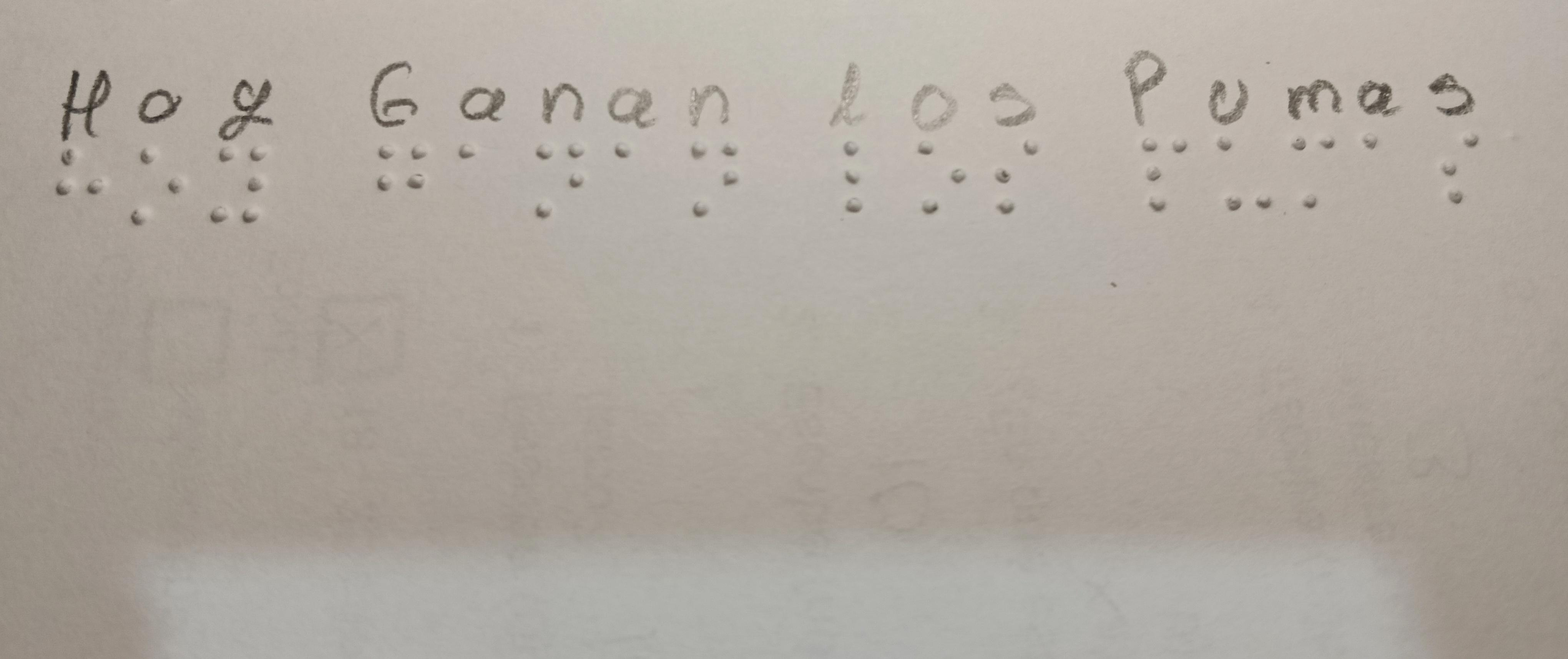a: (1351, 127, 1389, 190), (450, 134, 496, 173), (601, 129, 638, 173)
g: (357, 132, 438, 201)
h: (50, 132, 110, 209)
l: (826, 130, 878, 226)
m: (1287, 132, 1343, 215)
n: (513, 132, 590, 221), (676, 134, 744, 223)
o: (903, 134, 970, 221), (125, 140, 184, 238)
p: (1124, 129, 1193, 215)
s: (984, 136, 1055, 228), (1428, 129, 1497, 205)
u: (1213, 132, 1280, 215)
y: (200, 140, 273, 228)
